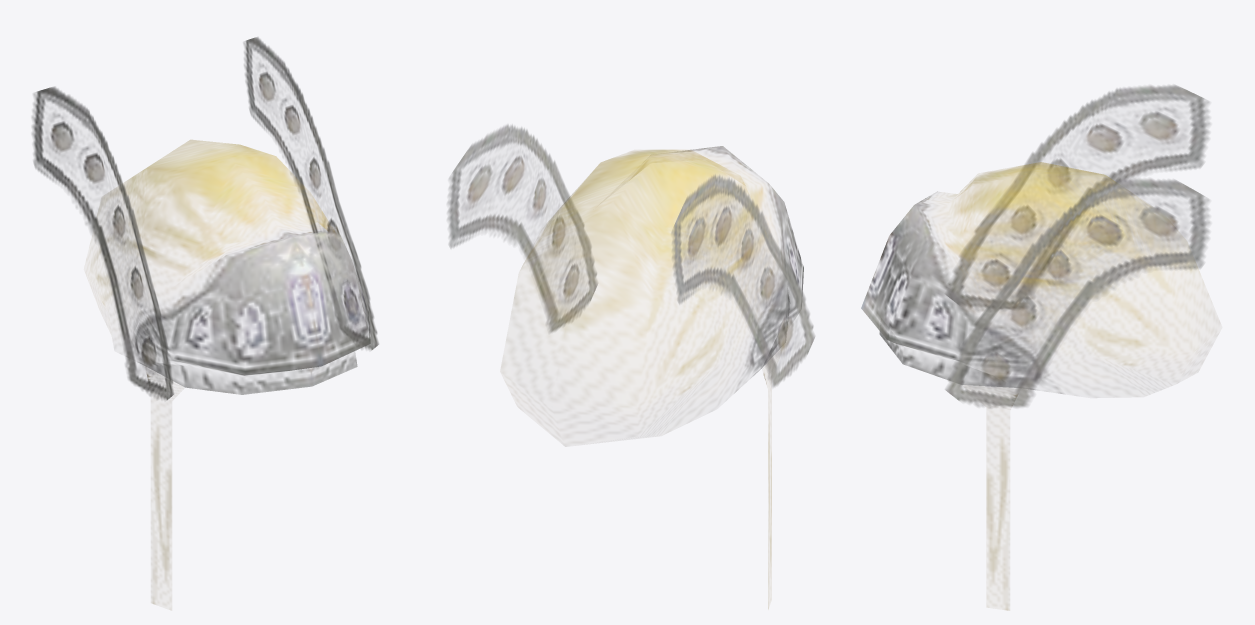
File: light_04_ha.glb
3 renders of one model, left to right at view 1: azimuth 30°, elevation 25°; view 2: azimuth 150°, elevation 25°; view 3: azimuth 270°, elevation 25°, orthographic. The views are drawn at different scales.
Visible parts, largest first — view 1: light_04_ha; view 2: light_04_ha; view 3: light_04_ha.
Boxes of the visible parts, x1,y1,x2,y2 form: light_04_ha: [32, 37, 378, 603]; light_04_ha: [447, 124, 814, 608]; light_04_ha: [861, 85, 1209, 610].
Bounding box in the file's own units: 0.1913 × 0.4251 × 0.2896.
Materials: 1 (1 with a texture image).
